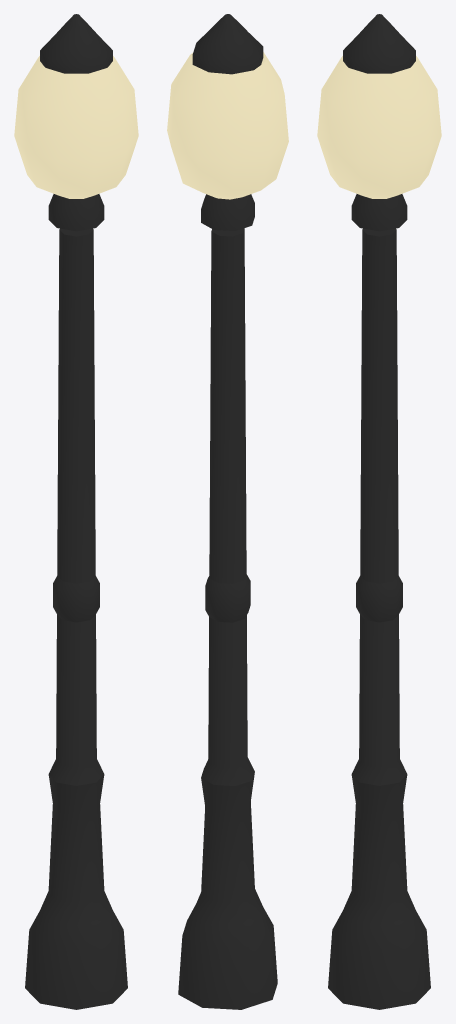
File: Blender_StreetLight_1.glb
3 views of the same model, side by side, from view 1: azimuth 90°, elevation 25°; view 2: azimuth 150°, elevation 25°; view 3: azimuth 270°, elevation 25° (orthographic).
Parts seen in each view (by area): view 1: Blender_StreetLight_1; view 2: Blender_StreetLight_1; view 3: Blender_StreetLight_1.
Part boxes in pixels (x1=…): Blender_StreetLight_1: x1=14, y1=14, x2=138, y2=1009; Blender_StreetLight_1: x1=167, y1=14, x2=288, y2=1009; Blender_StreetLight_1: x1=317, y1=14, x2=441, y2=1009.
Bounding box in the file's own units: 0.5516 × 5 × 0.58.
